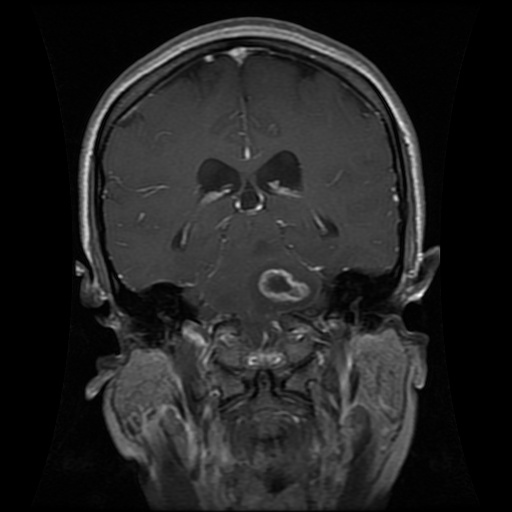glioma: (249, 263, 318, 309)
